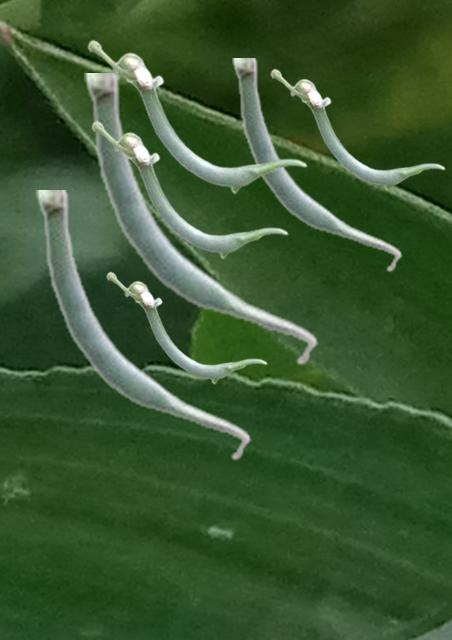french_bean: (84, 73, 317, 366), (36, 190, 250, 461), (232, 58, 401, 272), (87, 39, 306, 193), (91, 120, 287, 258), (270, 68, 444, 190), (106, 271, 266, 383)
